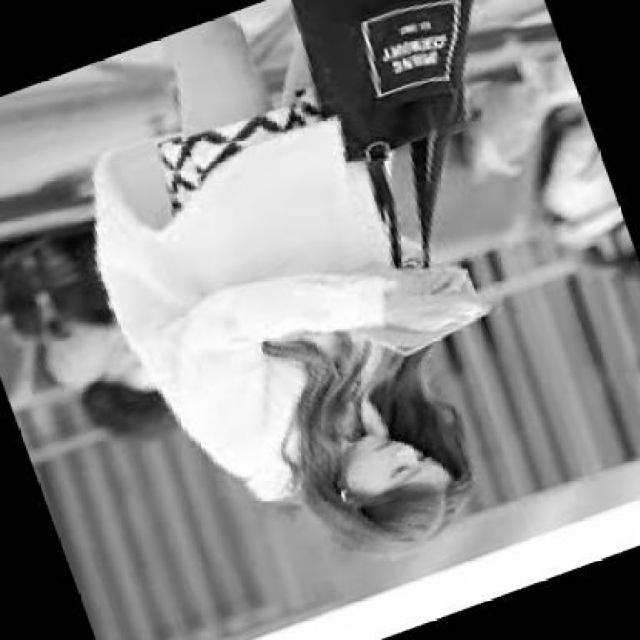earphone: (340, 480, 359, 518)
tablet: (350, 260, 489, 359)
